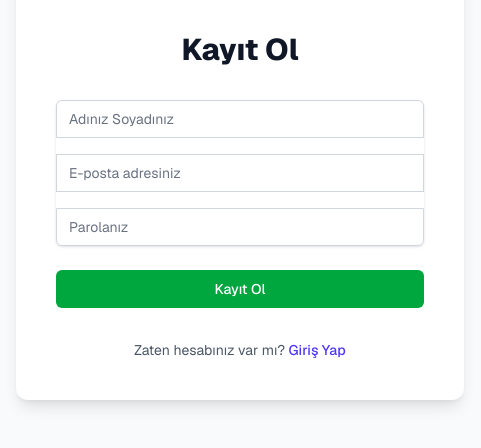
Scenario: RegisterPage › should display error message on failed registration
The image size is (481, 448).
Type "Fail User" into the field named "İsim" at (240, 119), box [56, 100, 424, 138]
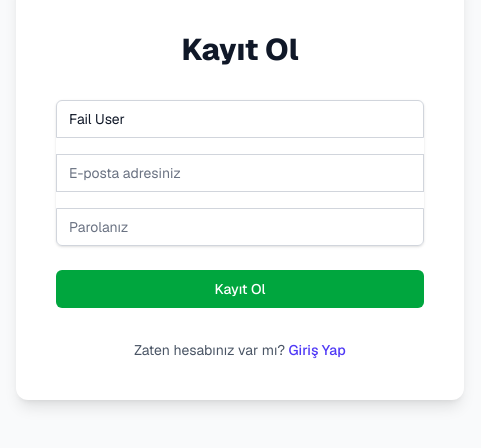
Type "fail@example.com" into the field labelled "E-posta adresiniz" at (240, 173), box [56, 154, 424, 192]
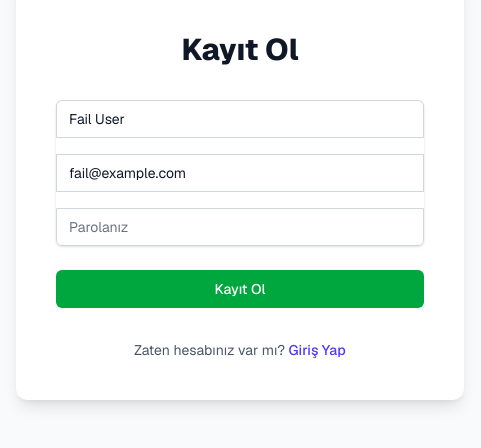
Type "failpassword" into the password field labelled "Parolanız" at (240, 227), box [56, 208, 424, 246]
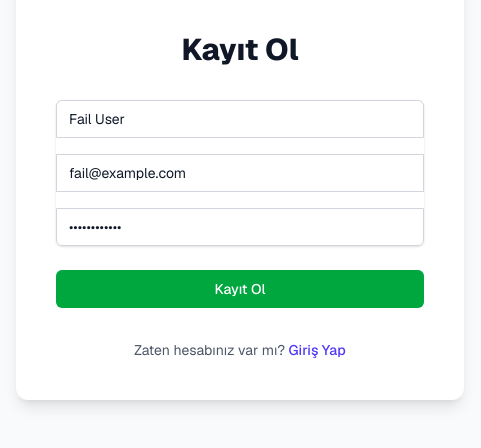
Click the button "Kayıt Ol" at (240, 289), box [56, 270, 424, 308]
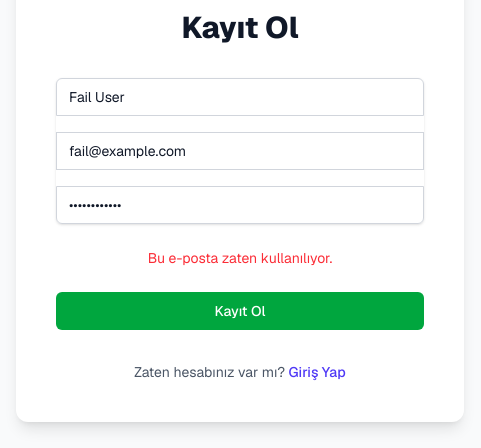
Now the text "Bu e-posta zaten kullanılıyor." is shown, box [148, 249, 332, 267]
